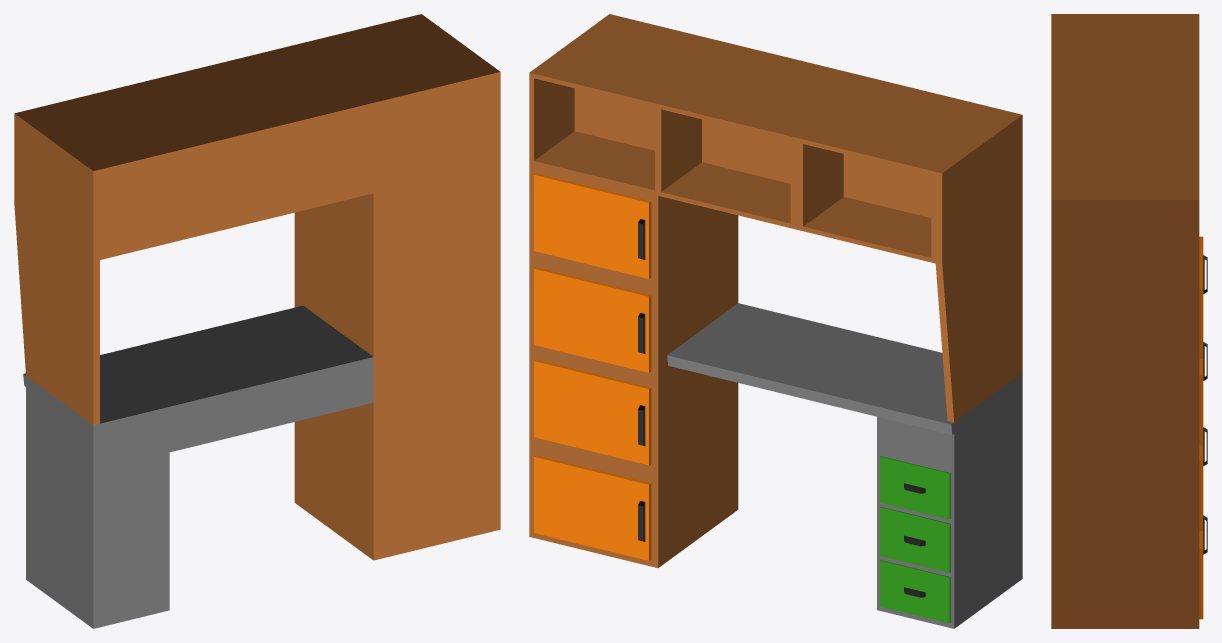
The model's file is Desk with Storage.fbx.
3 views of the same model, side by side, from view 1: azimuth 30°, elevation 25°; view 2: azimuth 150°, elevation 25°; view 3: azimuth 270°, elevation 25° (orthographic). The views are drawn at different scales.
Visible parts, largest first — view 1: Node 0; view 2: Node 0, Node 2, Node 5, Node 6, Node 7, Node 4, Node 3, Node 1; view 3: Node 0, Node 2, Node 5, Node 6, Node 7.
Part boxes in pixels (left/top/right/bottom): Node 0: left=14, top=14, right=500, bottom=628; Node 0: left=529, top=14, right=1022, bottom=628; Node 2: left=534, top=173, right=651, bottom=278; Node 5: left=534, top=455, right=651, bottom=560; Node 6: left=534, top=267, right=651, bottom=372; Node 7: left=534, top=359, right=651, bottom=465; Node 4: left=880, top=506, right=950, bottom=572; Node 3: left=880, top=560, right=950, bottom=623; Node 1: left=880, top=456, right=950, bottom=519; Node 0: left=1051, top=14, right=1199, bottom=628; Node 2: left=1199, top=236, right=1207, bottom=358; Node 5: left=1199, top=515, right=1207, bottom=619; Node 6: left=1199, top=342, right=1207, bottom=445; Node 7: left=1199, top=427, right=1207, bottom=530.
Bounding box in the file's own units: 0.8212 × 2.48 × 2.31.
